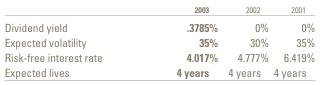table: (3, 3, 314, 78)
table column: (3, 3, 138, 78), (138, 3, 222, 78), (222, 3, 270, 78), (270, 3, 314, 78)
table column header: (3, 3, 314, 16)
table row: (3, 16, 314, 34), (3, 34, 314, 49), (3, 49, 314, 64), (3, 64, 314, 78), (3, 3, 314, 16)
